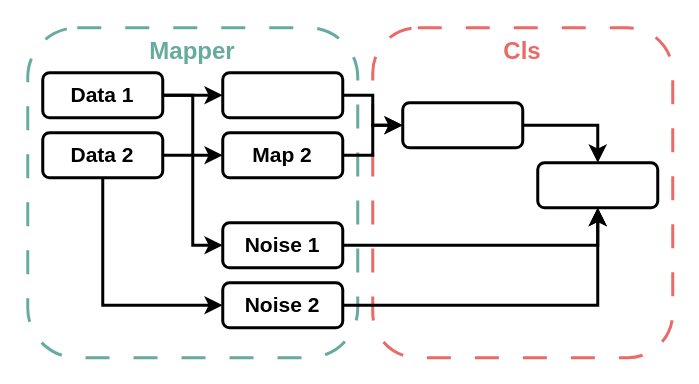
Image size: 699x384. Some labels were removed from this diagram. The shapes that lost their labels are listed below. From the top down, each one's centre as x and y in pixels, then its label:
At point 282,94: "Map 1".
At point 462,124: "Cl".
At point 597,184: "Cov".
